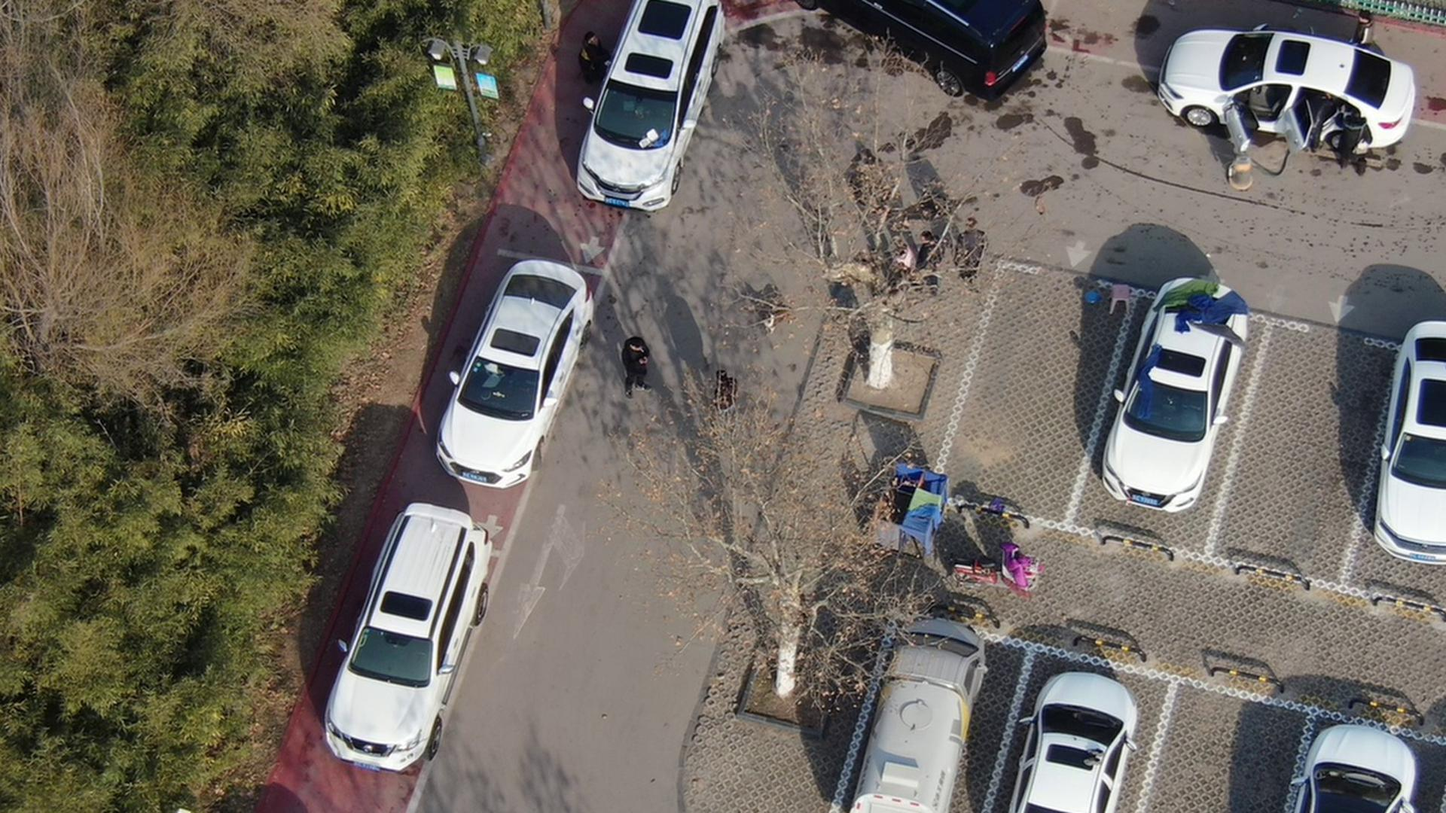human: (914, 225, 956, 297), (959, 215, 1001, 284), (623, 334, 660, 408), (584, 23, 623, 93), (1336, 105, 1373, 176), (709, 364, 744, 439), (1298, 91, 1331, 155), (1357, 2, 1384, 46)
